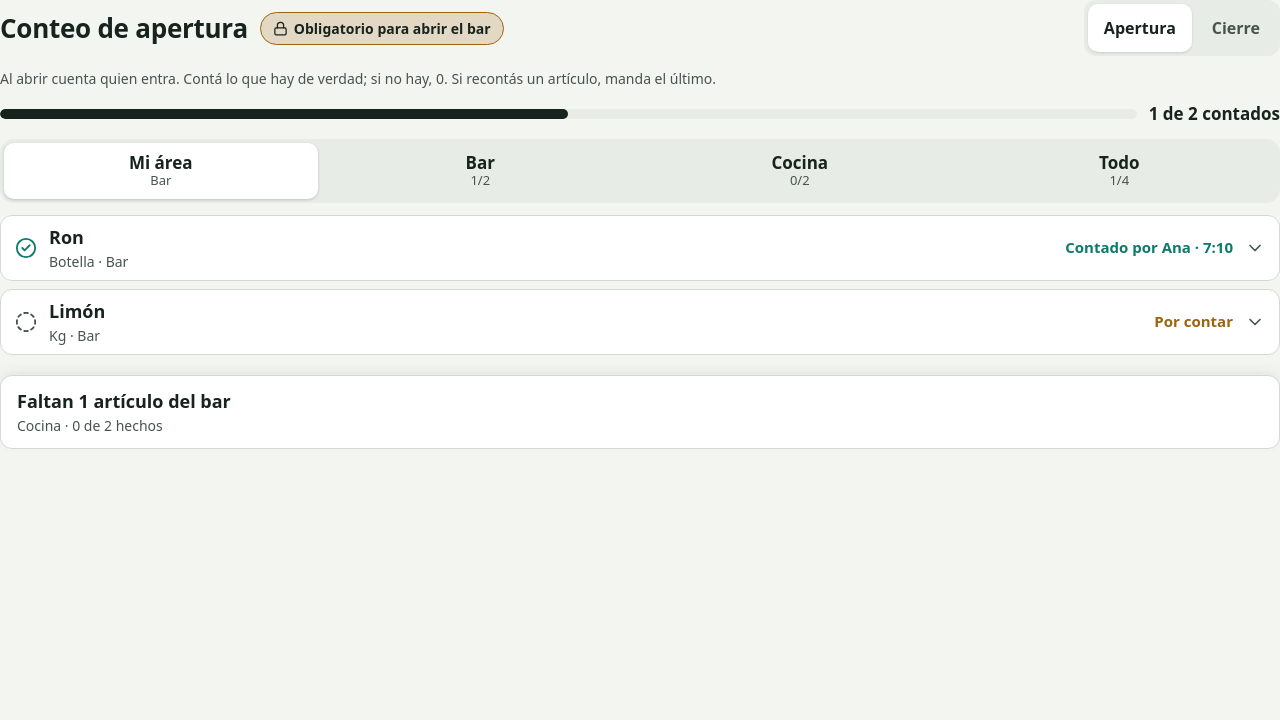
Test: AreaCountPanel › a ciegas: quién contó y cuándo, nunca cuánto; y la apertura obligatoria en la pastilla
This screenshot has width=1280, height=720.
Expected: the text "Obligatorio para abrir el bar" is shown, [260, 12, 504, 44]
Expected: the text "Contado por Ana · 7:10" is shown, [1065, 236, 1233, 259]
What coordinates should you click on to do the following:
click the button "Ron Botella · Bar Contado por Ana · 7:10"
I would click on:
 (66, 236)
Its box is [1, 216, 1279, 280].
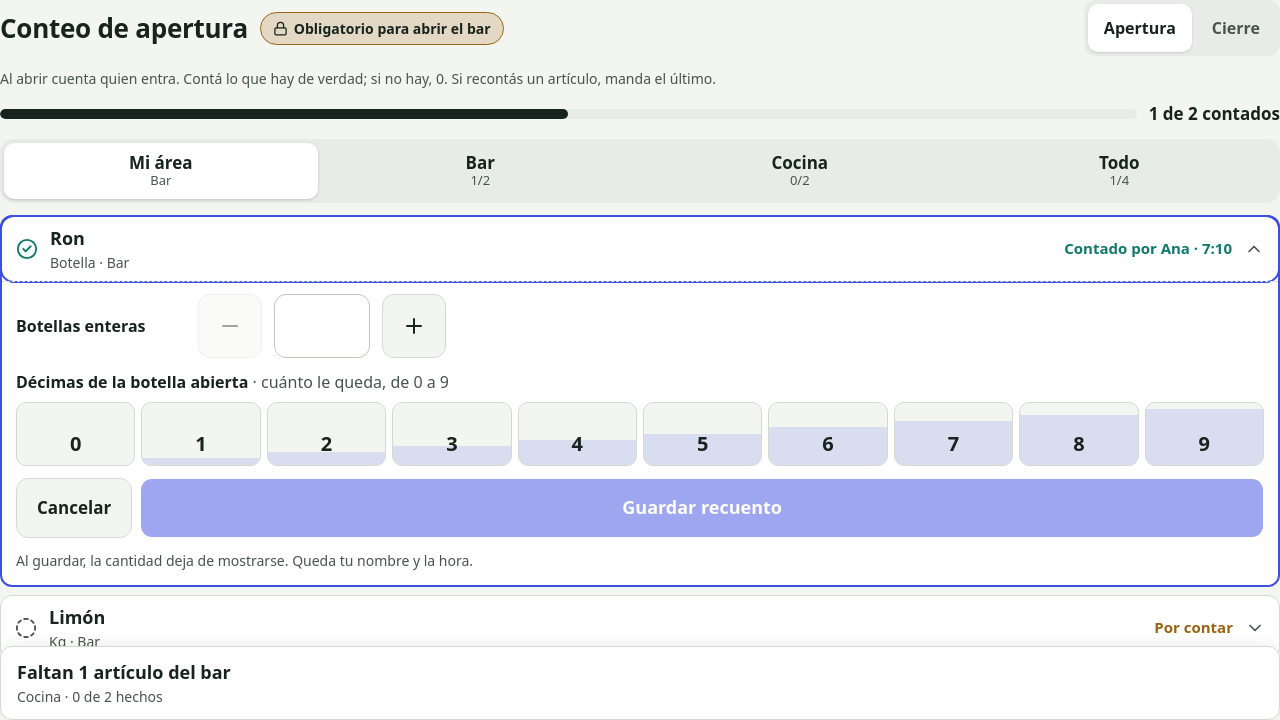
Expected: the button "Guardar recuento" is shown, [140, 478, 1264, 538]
What coordinates should you click on to do the following:
click the button "Limón Kg · Bar Por contar"
I would click on:
 (77, 616)
Its box is [1, 596, 1279, 660].
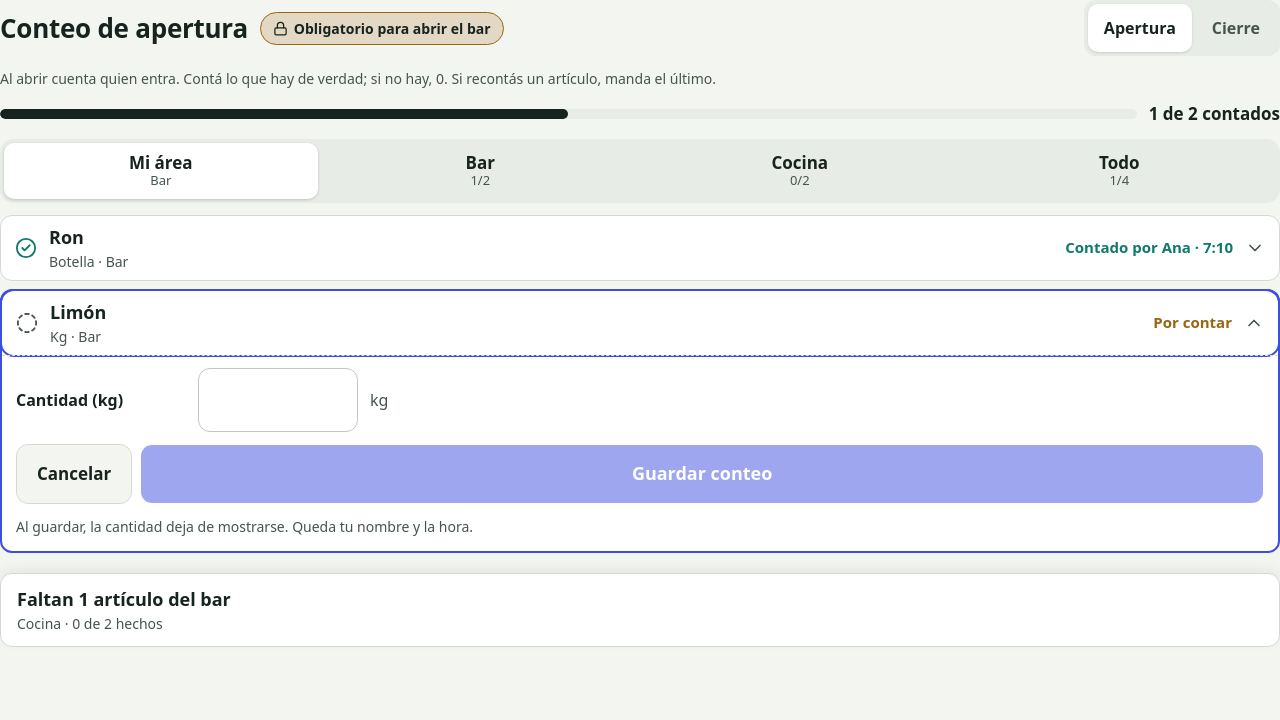
Expected: the text "Al guardar, la cantidad deja de mostrarse" is shown, [16, 516, 473, 536]
Expected: the button "Guardar conteo" is shown, [140, 444, 1264, 504]
Expected: the button "Guardar recuento" is gone
